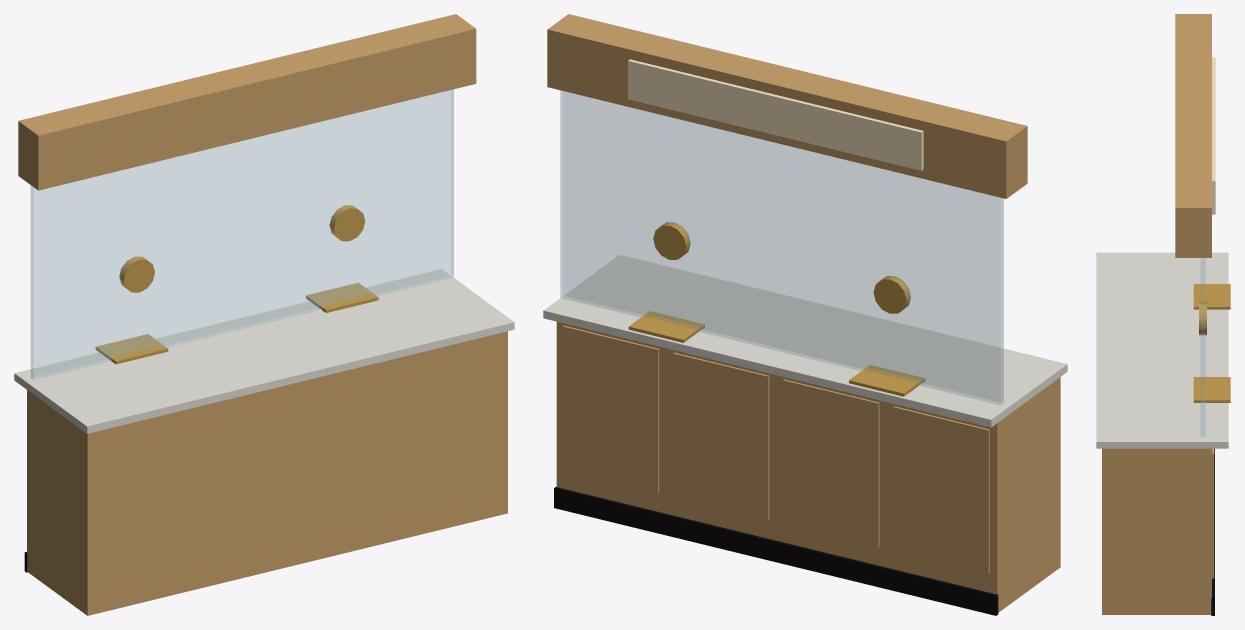
Rendered from venue.foyer.box_office.glb.
3 renders of one model, left to right at view 1: azimuth 30°, elevation 25°; view 2: azimuth 150°, elevation 25°; view 3: azimuth 270°, elevation 25°, orthographic. The views are drawn at different scales.
Parts seen in each view (by area): view 1: main__glulam, main__glass, main__marble, main__brass; view 2: main__glulam, main__glass, main__marble, main__glow, main__plastic_black, main__brass; view 3: main__glulam, main__marble, main__brass, main__glass, main__glow, main__plastic_black.
Boxes of the visible parts, x1,y1,x2,y2 form: main__glulam: (18, 14, 507, 615); main__glass: (31, 89, 453, 379); main__marble: (14, 269, 514, 433); main__brass: (95, 205, 378, 364); main__glulam: (547, 14, 1060, 612); main__glass: (560, 90, 1003, 405); main__marble: (543, 255, 1067, 427); main__glow: (628, 59, 923, 170); main__plastic_black: (554, 486, 998, 615); main__brass: (628, 222, 925, 396); main__glulam: (1102, 14, 1214, 614); main__marble: (1096, 252, 1228, 448); main__brass: (1193, 284, 1230, 402); main__glass: (1200, 258, 1205, 436); main__glow: (1212, 57, 1215, 214); main__plastic_black: (1211, 448, 1214, 615).
Bounding box in the file's own units: 2.5 × 2.47 × 0.73.
